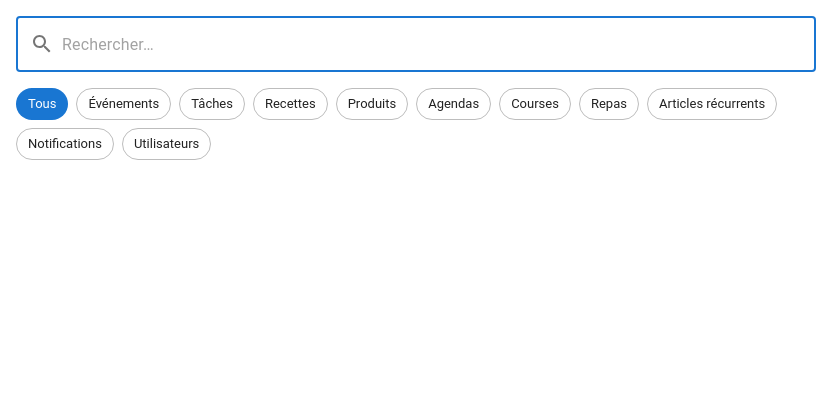
it: SearchPage › shows results after typing
The image size is (833, 417).
Type "pâtes" into the field with placeholder "Rechercher…" at {"x": 439, "y": 44}, box top-left (62, 16), bottom-right (816, 72)
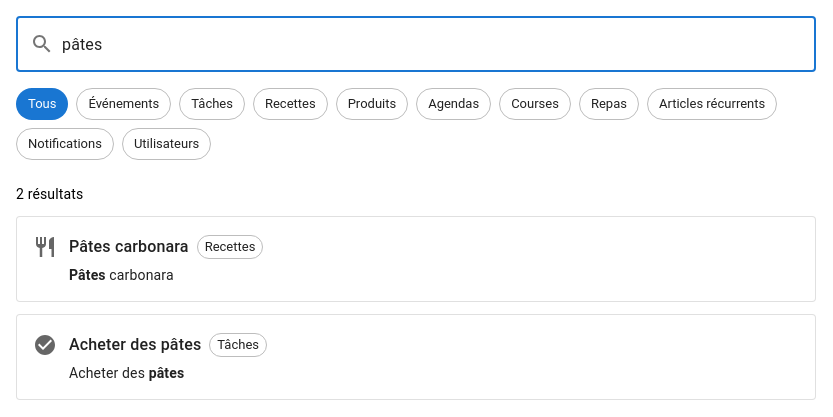
Result: the heading "Pâtes carbonara" is shown at top-left (69, 233), bottom-right (189, 261)
Result: the heading "Acheter des pâtes" is shown at top-left (69, 331), bottom-right (201, 359)
Result: the text "2 résultats" is shown at top-left (16, 186), bottom-right (83, 202)
